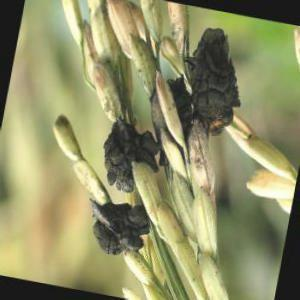Leaf_Scald: (193, 27, 231, 130), (110, 112, 148, 194), (94, 200, 146, 259)
